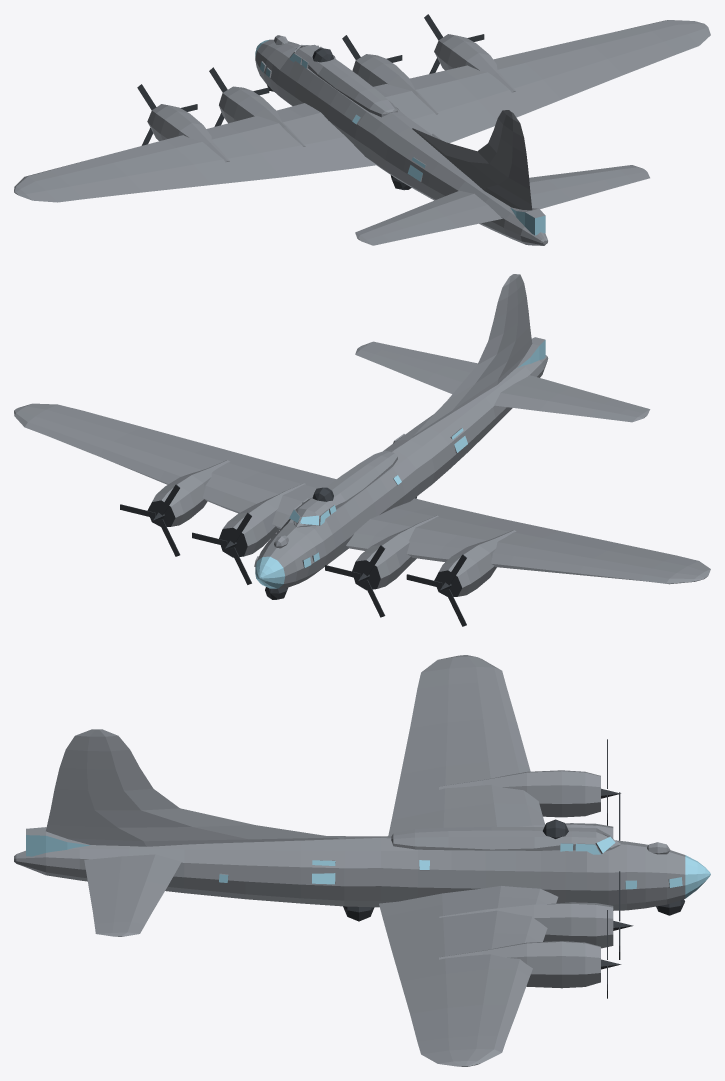
3 renders of one model, top to bottom at view 1: azimuth 30°, elevation 25°; view 2: azimuth 150°, elevation 25°; view 3: azimuth 270°, elevation 25°, orthographic. The views are drawn at different scales.
Visible parts, largest first — view 1: B17_Wing, B17_Fuselage, B17_Tailplane, B17_Fin, B17_Dorsal, B17_NacOR, B17_NacOL, B17_NacIL, B17_NacIR, B17_Hood; view 2: B17_Wing, B17_Fuselage, B17_Tailplane, B17_Fin, B17_Dorsal, B17_NacIL, B17_NacOL, B17_NacOR, B17_NacIR; view 3: B17_Wing, B17_Fuselage, B17_Fin, B17_Tailplane, B17_Dorsal, B17_NacOR, B17_NacOL, B17_NacIR, B17_Hood.
Boxes of the visible parts, x1,y1,x2,y2 form: B17_Wing: (14, 20, 710, 202); B17_Fuselage: (255, 39, 547, 245); B17_Tailplane: (355, 165, 649, 245); B17_Fin: (412, 110, 532, 210); B17_Dorsal: (295, 44, 397, 117); B17_NacOR: (434, 34, 515, 92); B17_NacOL: (147, 104, 229, 162); B17_NacIL: (219, 86, 305, 146); B17_NacIR: (352, 54, 438, 114); B17_Hood: (510, 207, 545, 235); B17_Wing: (14, 403, 710, 584); B17_Fuselage: (255, 355, 548, 588); B17_Tailplane: (355, 341, 650, 422); B17_Fin: (412, 274, 532, 437); B17_Dorsal: (293, 450, 397, 527); B17_NacIL: (352, 515, 438, 590); B17_NacOL: (434, 530, 516, 596); B17_NacOR: (147, 460, 229, 526); B17_NacIR: (219, 483, 305, 557); B17_Wing: (379, 655, 558, 1066); B17_Fuselage: (14, 836, 710, 910); B17_Fin: (46, 729, 339, 846); B17_Tailplane: (84, 854, 181, 936); B17_Dorsal: (391, 826, 620, 852); B17_NacOR: (439, 941, 600, 988); B17_NacOL: (439, 770, 600, 817); B17_NacIR: (439, 902, 613, 948); B17_Hood: (26, 827, 90, 856).
Size of the model in its own units: 31.62 by 7.21 by 22.67.
